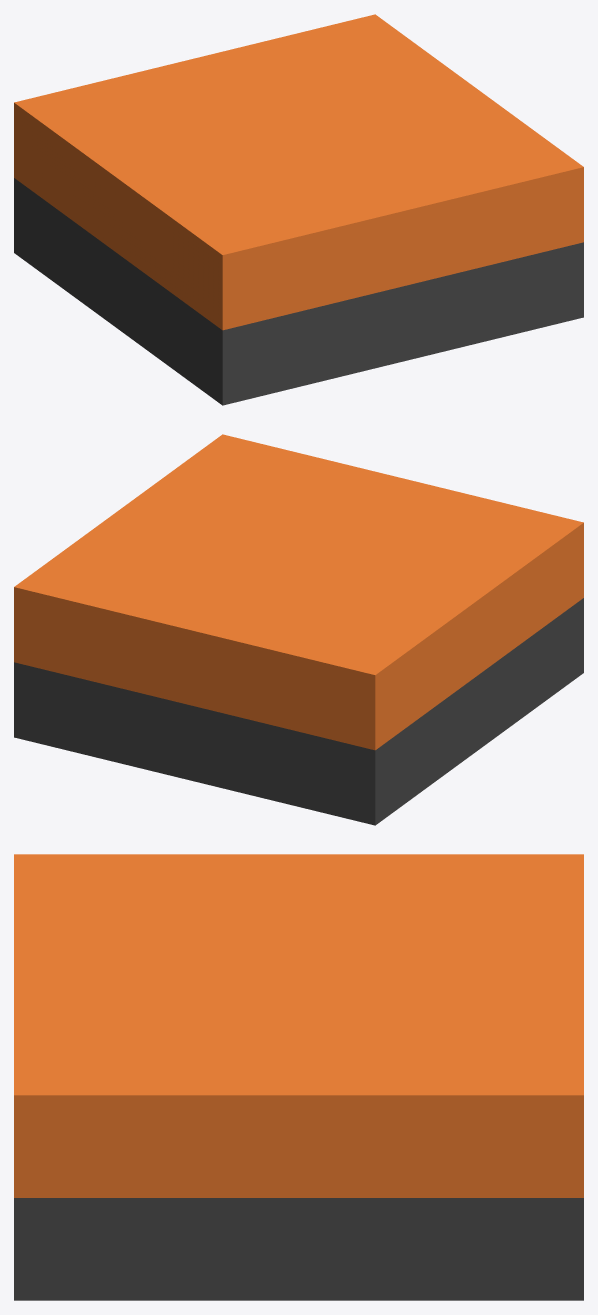
File: Biome_River_HD.glb
3 views of the same model, one above another, from view 1: azimuth 30°, elevation 25°; view 2: azimuth 150°, elevation 25°; view 3: azimuth 270°, elevation 25° (orthographic). The views are drawn at different scales.
Visible parts, largest first — view 1: Cube; view 2: Cube; view 3: Cube.
Boxes of the visible parts, x1,y1,x2,y2 form: Cube: (14, 14, 583, 405); Cube: (14, 434, 583, 825); Cube: (14, 854, 583, 1300).
Bounding box in the file's own units: 2.58 × 1.03 × 2.58.
